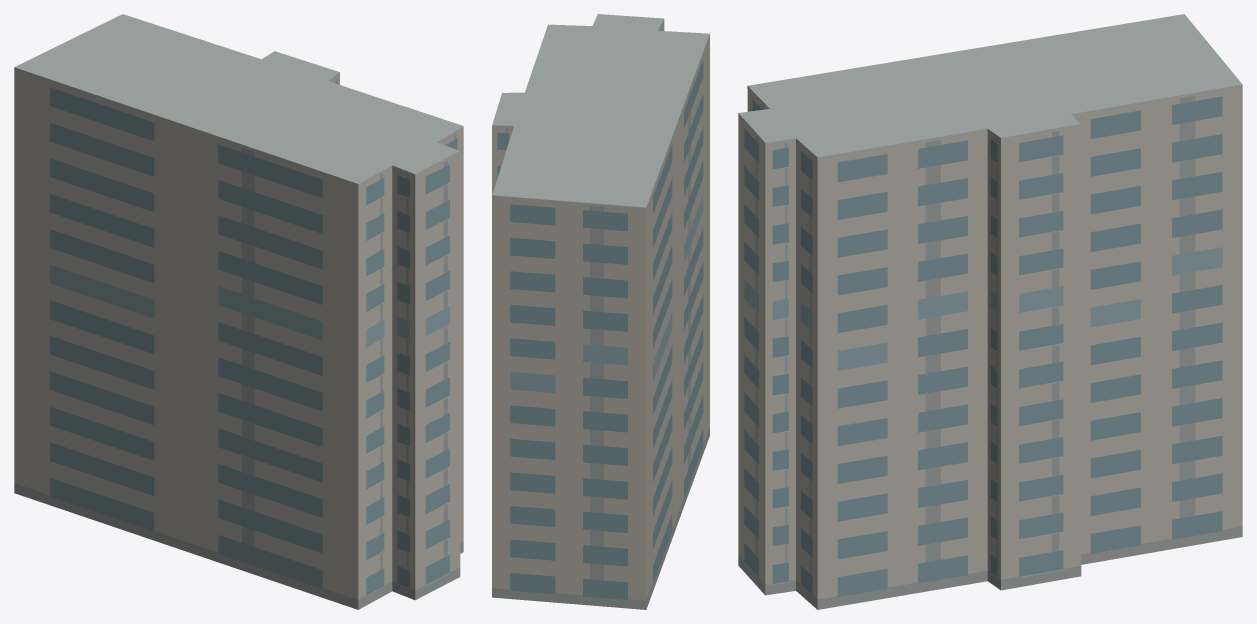
Rendered from residential-2eb41a61-b822-46fb-a967-5338947374f7.glb.
The picture shows the model from 3 angles, left to right: view 1: azimuth 30°, elevation 25°; view 2: azimuth 150°, elevation 25°; view 3: azimuth 270°, elevation 25°; orthographic projection. The views are drawn at different scales.
Parts seen in each view (by area): view 1: residential-2eb41a61-b822-46fb-a967-5338947374f7.tmp; view 2: residential-2eb41a61-b822-46fb-a967-5338947374f7.tmp; view 3: residential-2eb41a61-b822-46fb-a967-5338947374f7.tmp.
Part boxes in pixels (x1=…): residential-2eb41a61-b822-46fb-a967-5338947374f7.tmp: x1=14, y1=14, x2=463, y2=609; residential-2eb41a61-b822-46fb-a967-5338947374f7.tmp: x1=492, y1=14, x2=709, y2=609; residential-2eb41a61-b822-46fb-a967-5338947374f7.tmp: x1=738, y1=14, x2=1242, y2=609.
Size of the model in its own units: 23.81 by 35 by 35.37.
